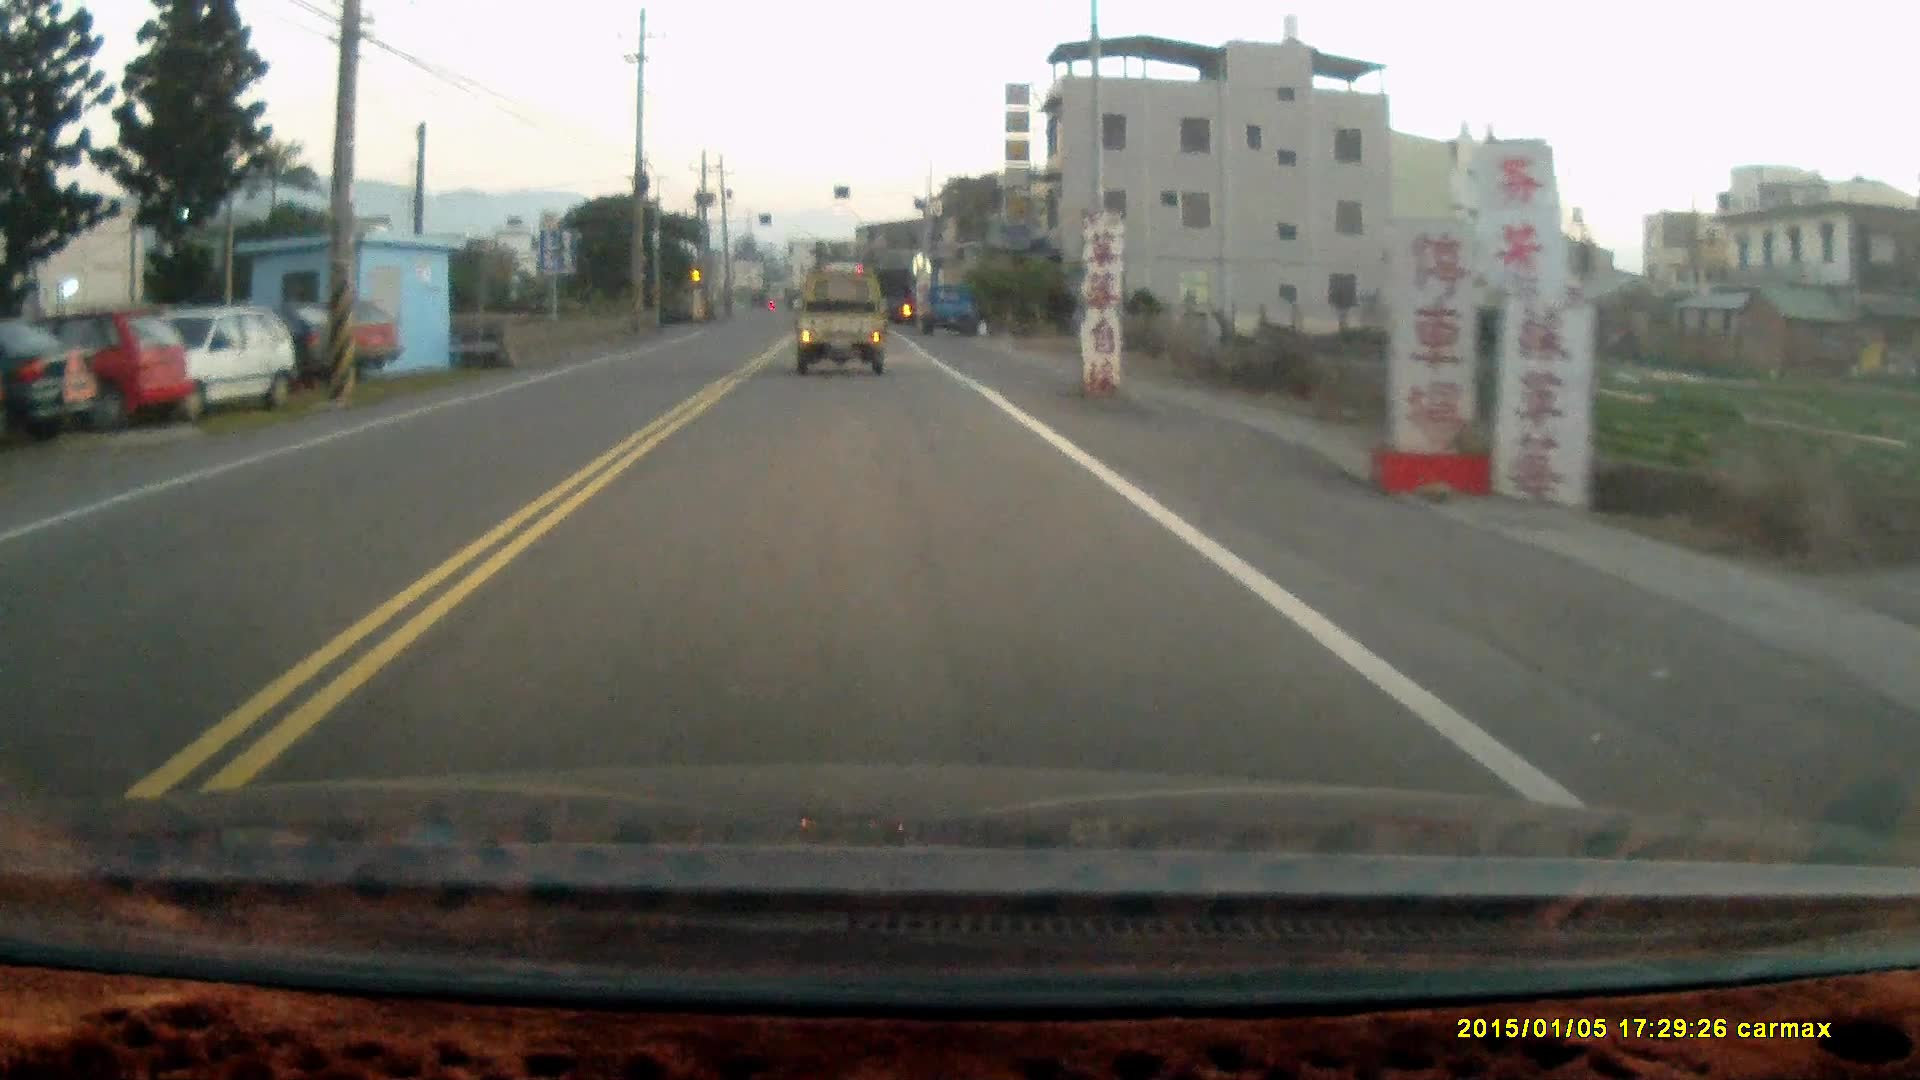vehicle: (3, 316, 187, 429), (113, 307, 301, 407), (248, 298, 407, 382), (794, 268, 890, 377), (913, 280, 981, 338)
